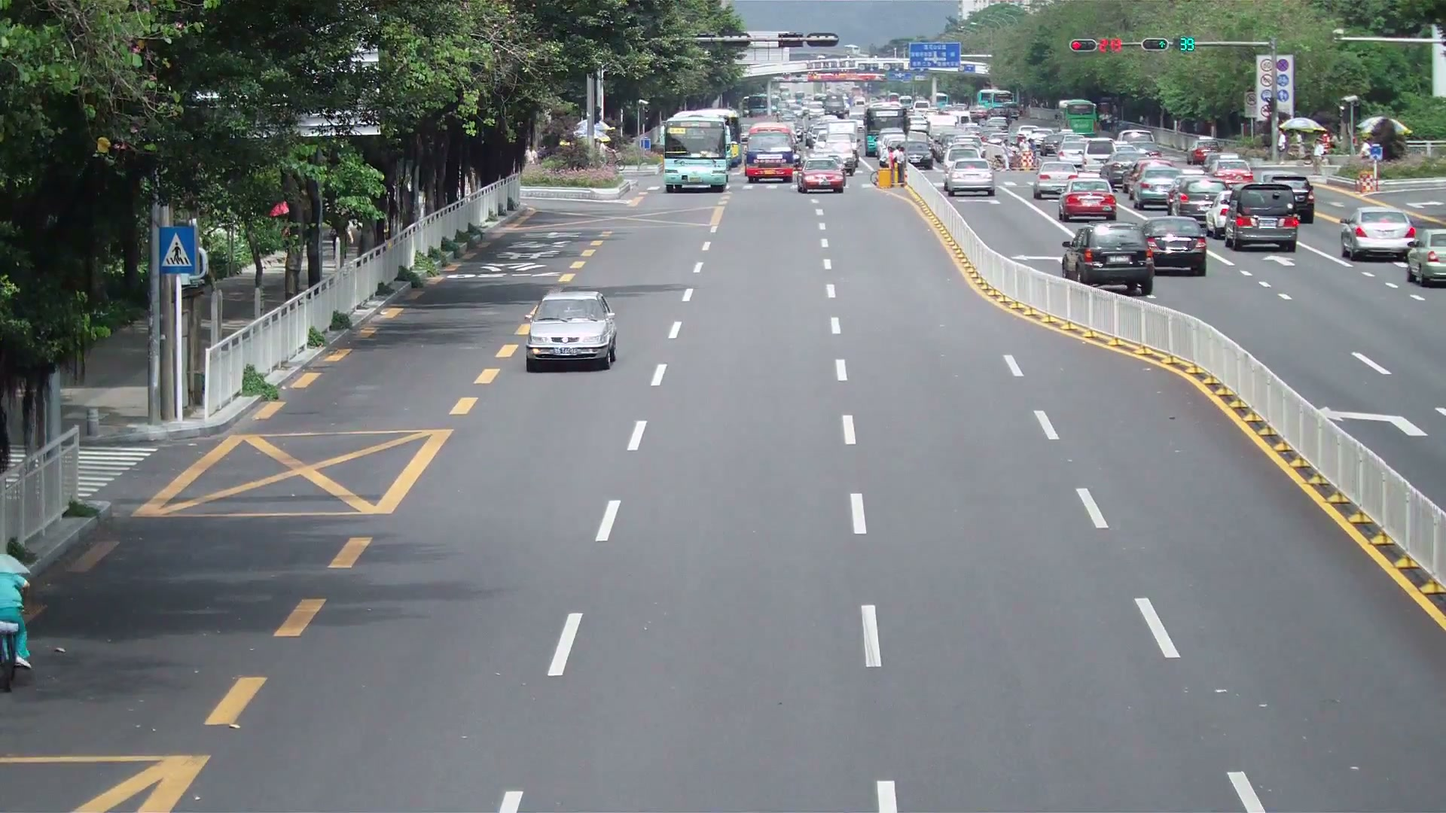bus: (661, 110, 732, 192)
car: (524, 289, 620, 370), (1063, 221, 1156, 296), (1223, 187, 1299, 253), (1336, 202, 1415, 263), (1143, 221, 1209, 275), (1131, 164, 1190, 213), (1059, 179, 1117, 222), (1406, 226, 1446, 286), (942, 156, 994, 198), (795, 152, 847, 193), (744, 152, 799, 184), (1035, 167, 1079, 199)
truck: (662, 110, 732, 192)
